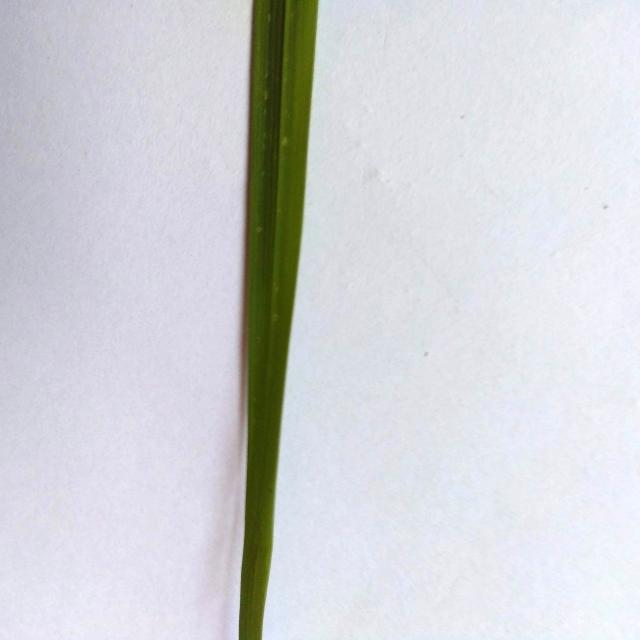Rice_Healthy: (239, 0, 318, 640)
